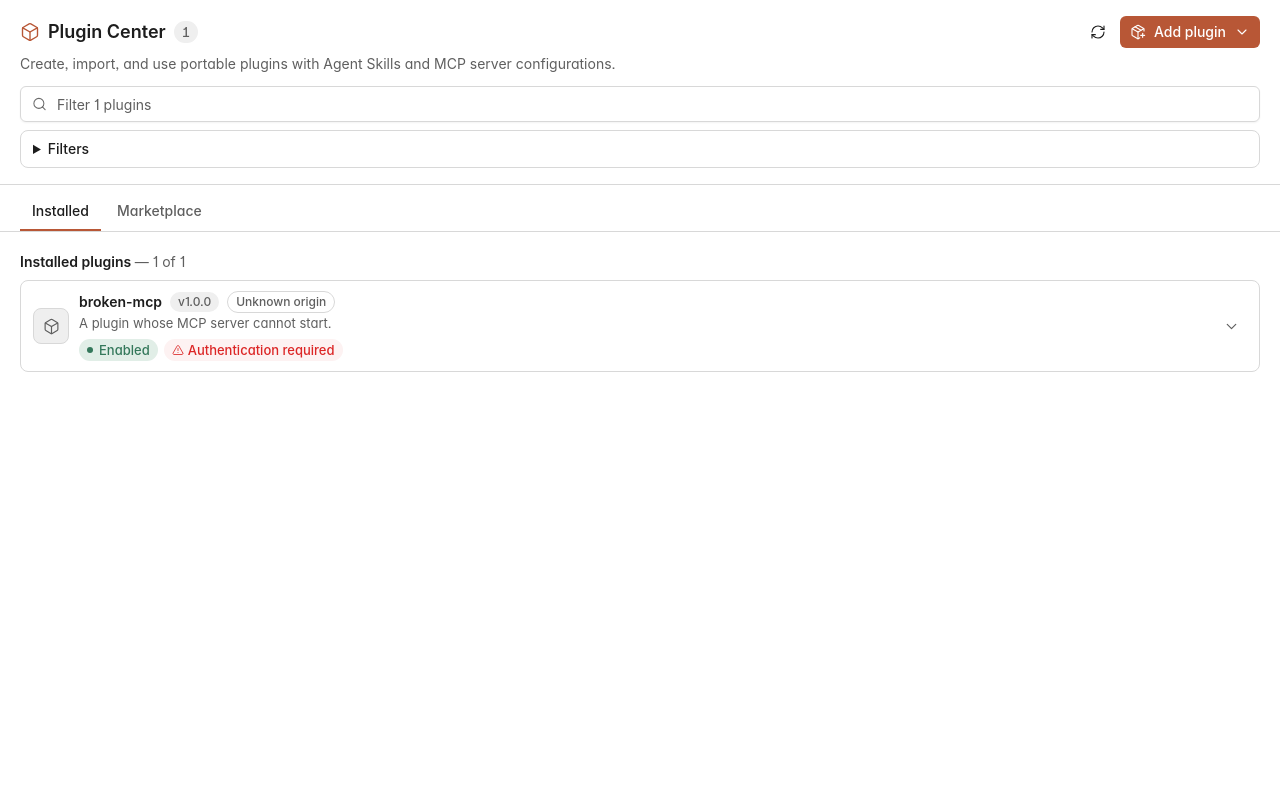
Test: PluginCenterPanel health status › shows remote MCP authorization as unavailable, not ready
Click the heading "broken-mcp". click: (120,302)
box: [79, 292, 162, 312]
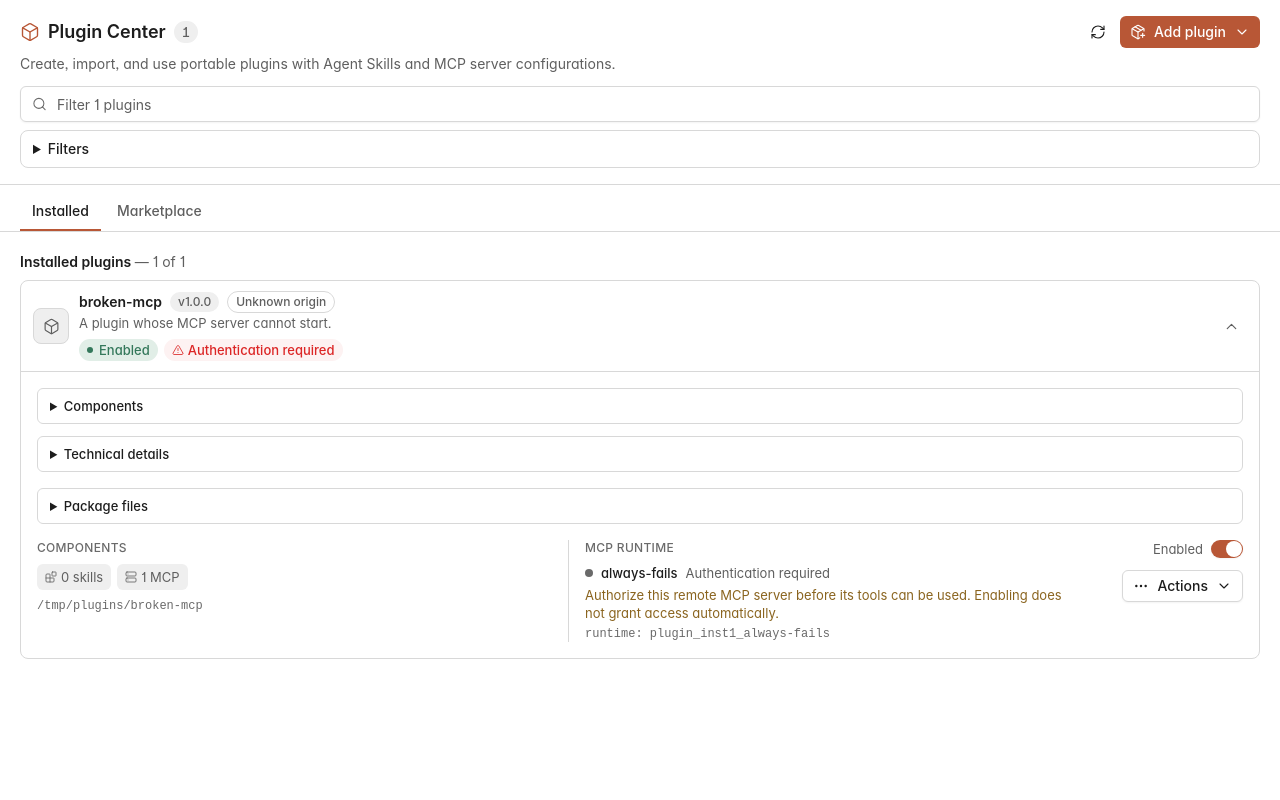
expect the text "Authorize this remote MCP server before its tools can be used" is shown: met, box [585, 587, 1062, 621]
